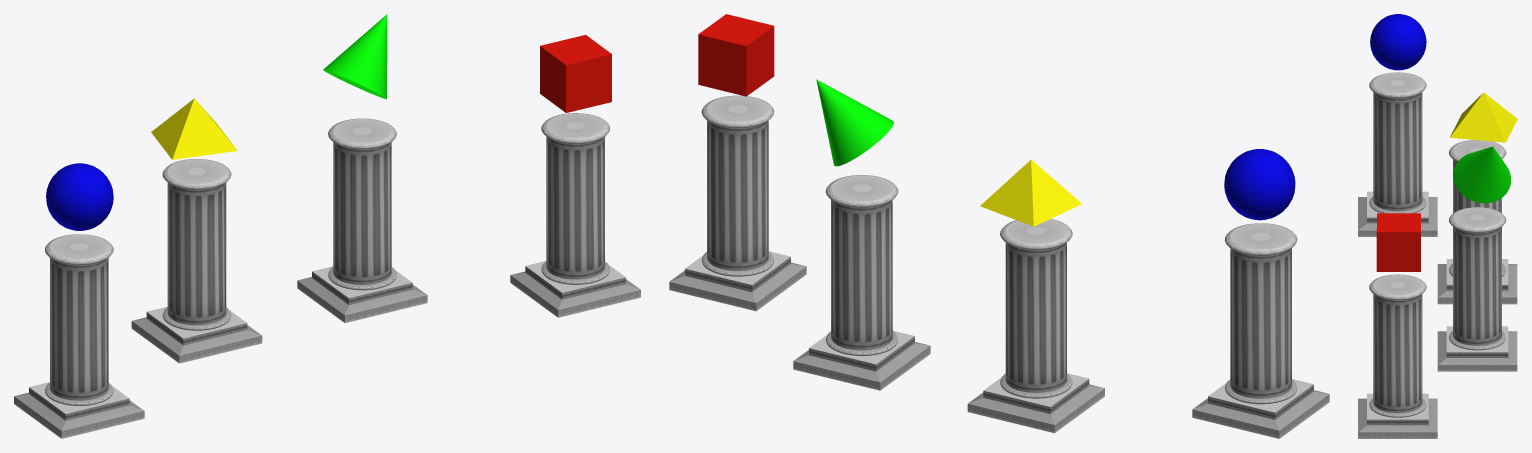
Rendered from columns.glb.
The picture shows the model from 3 angles, left to right: view 1: azimuth 30°, elevation 25°; view 2: azimuth 150°, elevation 25°; view 3: azimuth 270°, elevation 25°; orthographic projection. The views are drawn at different scales.
Visible parts, largest first — view 1: CombinedMesh (×2), Cube, Sphere, basic_pyramidobjcleanermaterialmergergles; view 2: CombinedMesh (×2), Cube, Sphere, basic_pyramidobjcleanermaterialmergergles; view 3: CombinedMesh (×2), Cube, Sphere, basic_pyramidobjcleanermaterialmergergles.
Boxes of the visible parts, x1,y1,x2,y2 form: CombinedMesh (×2): [14, 14, 640, 438]; Cube: [540, 35, 611, 112]; Sphere: [46, 163, 113, 230]; basic_pyramidobjcleanermaterialmergergles: [151, 98, 237, 159]; CombinedMesh (×2): [669, 79, 1329, 438]; Cube: [698, 14, 774, 96]; Sphere: [1224, 149, 1295, 220]; basic_pyramidobjcleanermaterialmergergles: [980, 159, 1081, 226]; CombinedMesh (×2): [1358, 72, 1517, 438]; Cube: [1376, 213, 1420, 271]; Sphere: [1370, 14, 1426, 70]; basic_pyramidobjcleanermaterialmergergles: [1450, 92, 1517, 142].
Bounding box in the file's own units: 7 × 3.08 × 2.01.
Materials: 5 (1 with a texture image).
